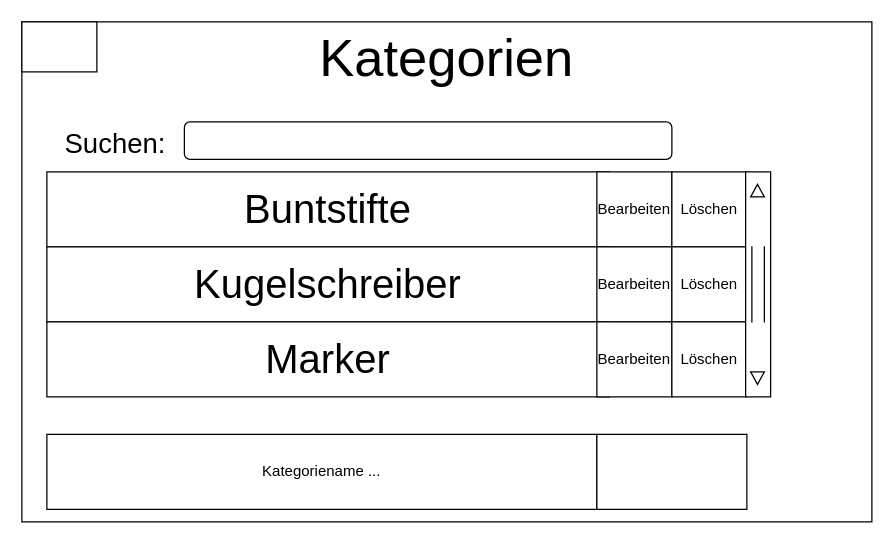
The diagram is 894 pixels wide and 544 high, and some of its shapes have lost their labels. Here are the shapes that lost their labels. From the top down, the centre of each, then its label:
point 59,46: Menü
point 671,471: Erstellen
